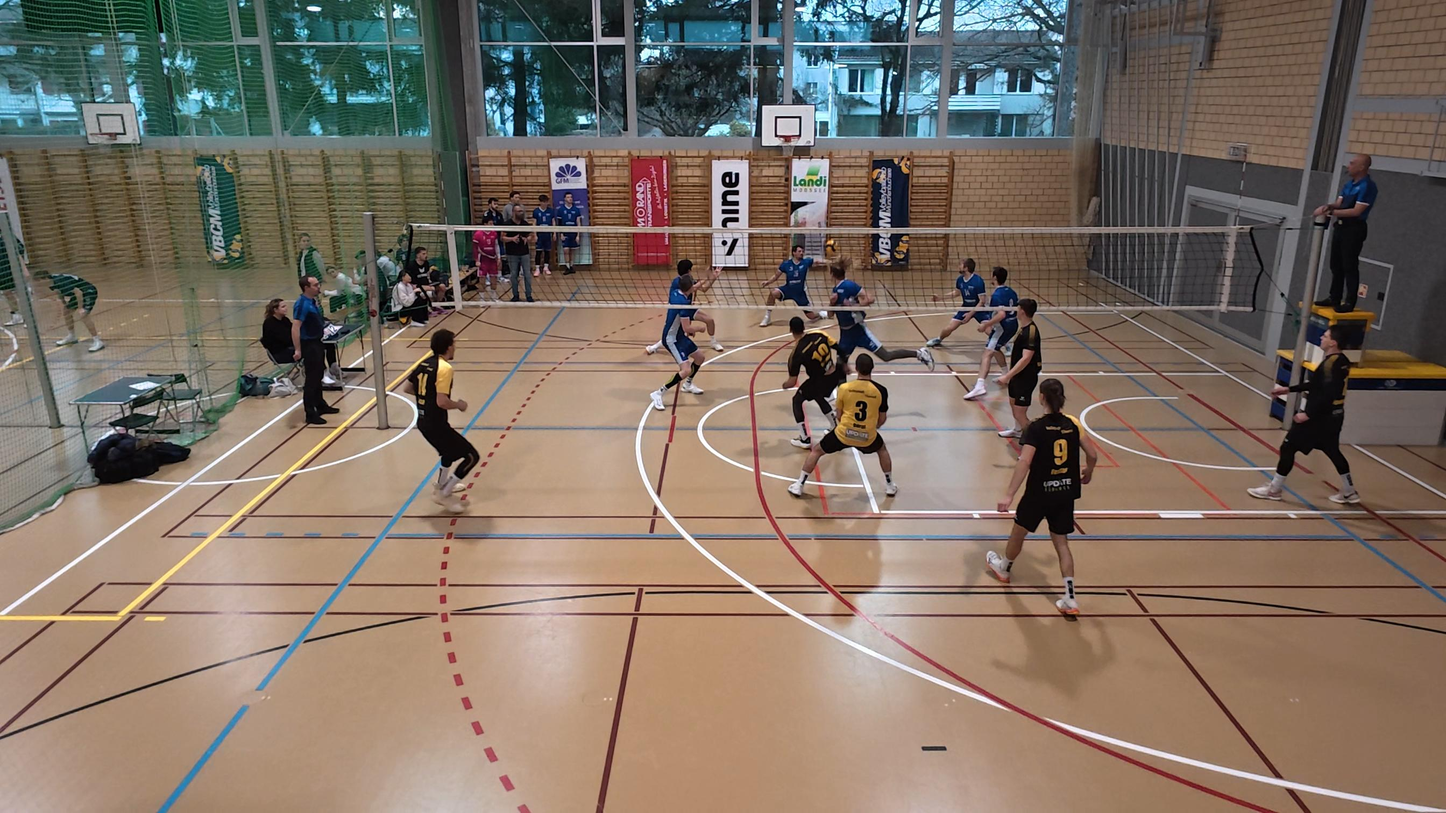Dig: (755, 244, 817, 331)
Player: (985, 379, 1097, 615), (1247, 329, 1359, 505), (789, 353, 896, 498), (400, 329, 480, 513), (648, 275, 722, 411), (780, 300, 847, 447), (966, 266, 1020, 399), (995, 298, 1042, 441), (925, 256, 988, 348), (667, 255, 724, 356), (825, 264, 875, 366)
ball: (820, 237, 839, 261)
